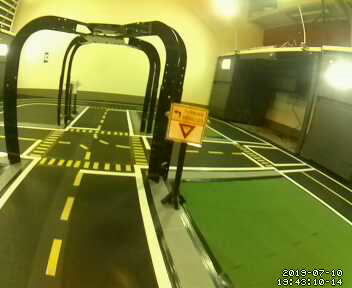Turn Yield: (165, 101, 209, 149)
